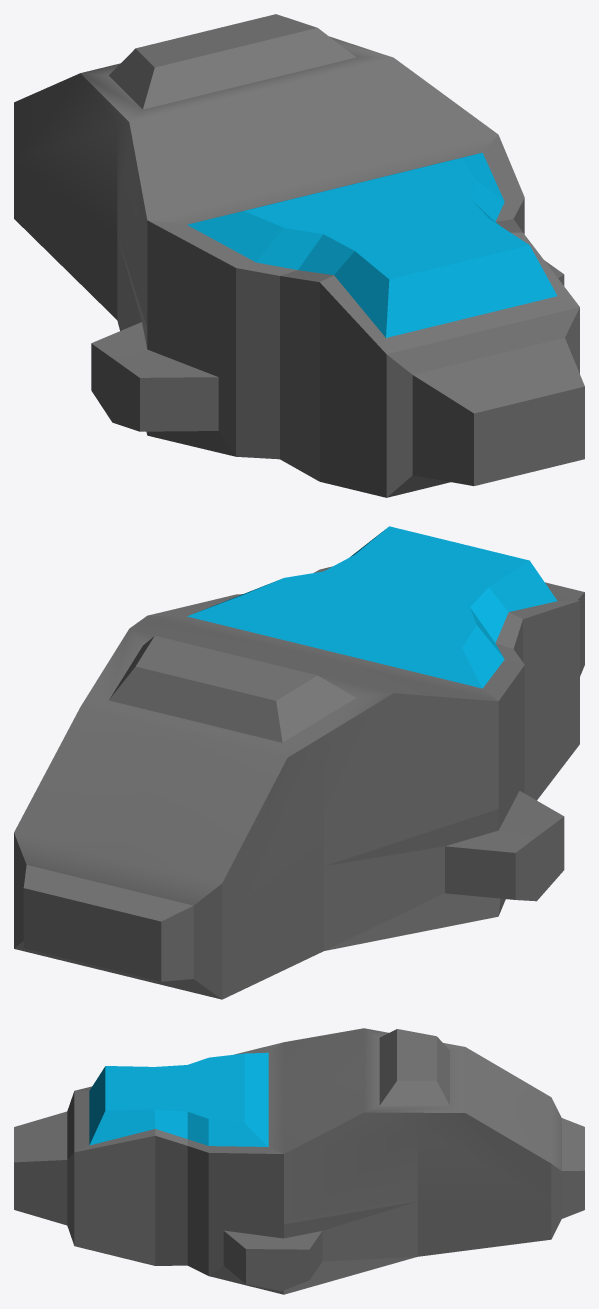
File: _1Ship_PIece13.fbx
3 views of the same model, one above another, from view 1: azimuth 30°, elevation 25°; view 2: azimuth 150°, elevation 25°; view 3: azimuth 270°, elevation 25° (orthographic). The views are drawn at different scales.
Parts seen in each view (by area): view 1: Ship_PIece13; view 2: Ship_PIece13; view 3: Ship_PIece13.
Part boxes in pixels (left/top/right/bottom): Ship_PIece13: left=14, top=14, right=584, bottom=497; Ship_PIece13: left=14, top=526, right=584, bottom=999; Ship_PIece13: left=14, top=1028, right=584, bottom=1294.
Size of the model in its own units: 258 by 163 by 460.
